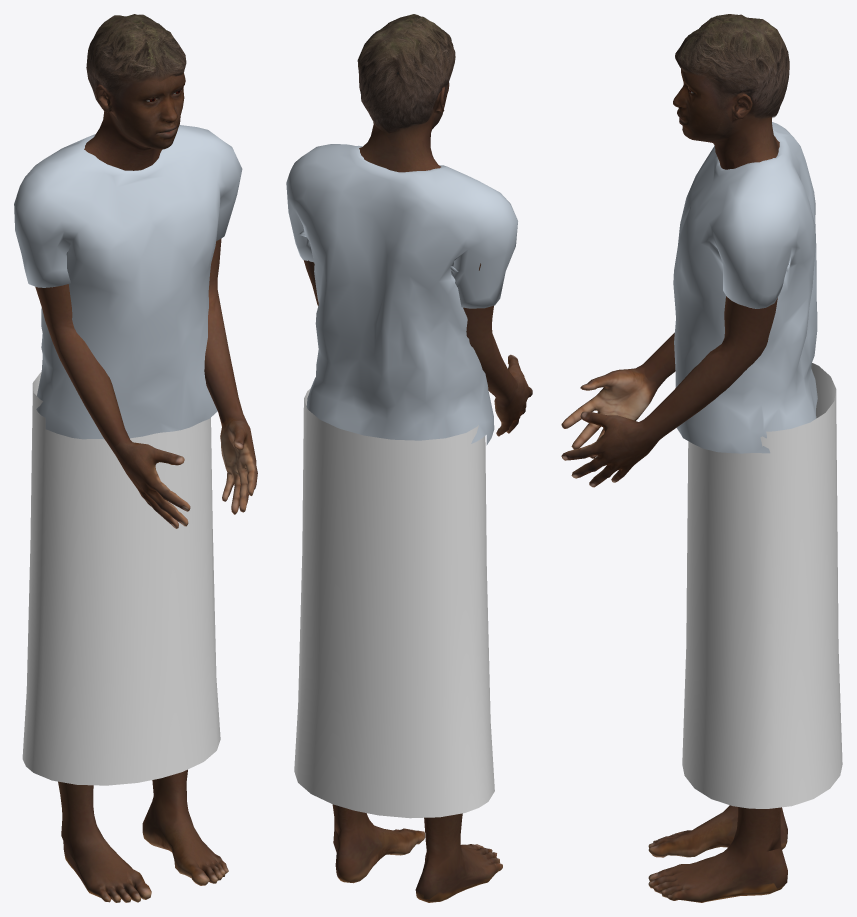
Rendered from street_man_lungi.glb.
3 renders of one model, left to right at view 1: azimuth 30°, elevation 25°; view 2: azimuth 150°, elevation 25°; view 3: azimuth 270°, elevation 25°, orthographic.
Parts seen in each view (by area): view 1: man_lungi; view 2: man_lungi; view 3: man_lungi.
Boxes of the visible parts, left/top/right/bottom form: man_lungi: left=14, top=14, right=257, bottom=902; man_lungi: left=286, top=14, right=532, bottom=902; man_lungi: left=561, top=14, right=842, bottom=902.
Bounding box in the file's own units: 0.4857 × 1.79 × 0.5332.
9 materials, 7 textured.
